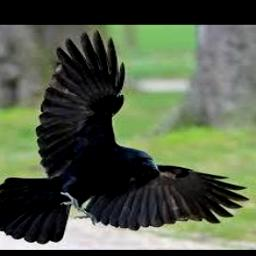Crow: (0, 30, 251, 243)
